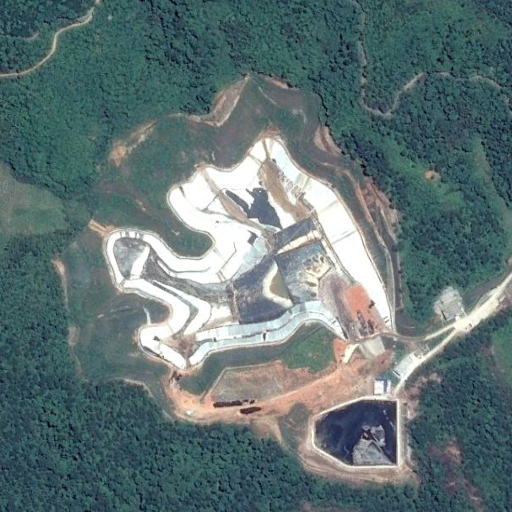lf: (105, 137, 390, 367)
